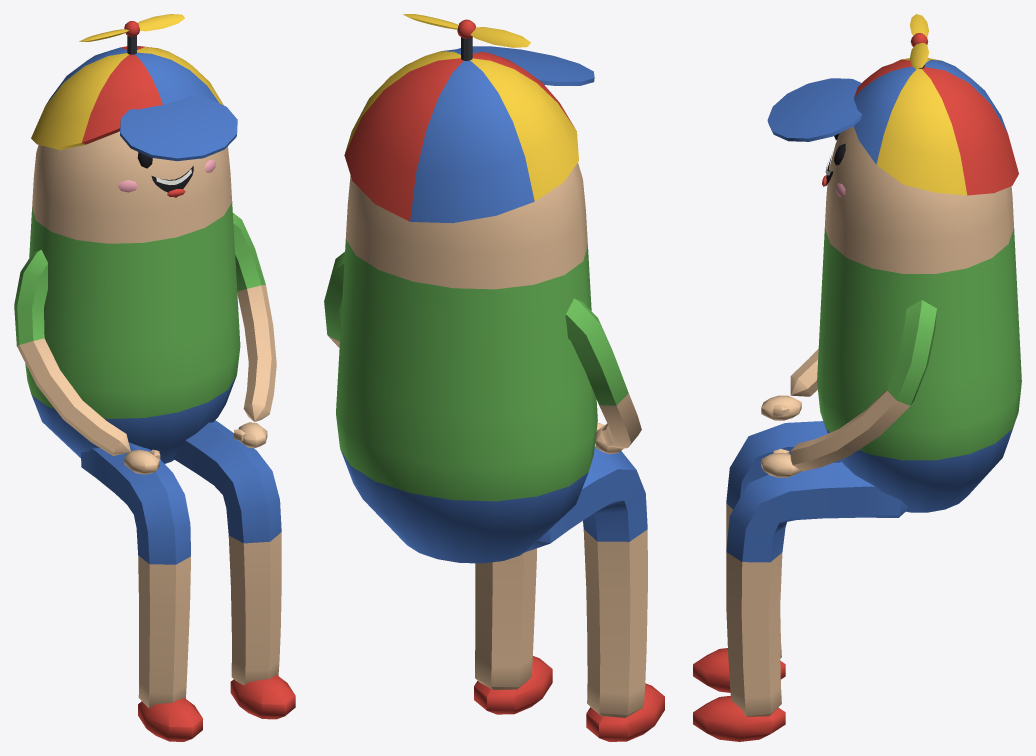
The model's file is PasajeroNino.fbx.
3 views of the same model, side by side, from view 1: azimuth 30°, elevation 25°; view 2: azimuth 150°, elevation 25°; view 3: azimuth 270°, elevation 25° (orthographic). The views are drawn at different scales.
Parts seen in each view (by area): view 1: PasajeroNino; view 2: PasajeroNino; view 3: PasajeroNino.
Boxes of the visible parts, x1,y1,x2,y2 form: PasajeroNino: (14, 14, 295, 741); PasajeroNino: (324, 14, 664, 741); PasajeroNino: (693, 14, 1021, 741).
Size of the model in its own units: 1.56 by 3.88 by 1.7.
1 material, 1 textured.
